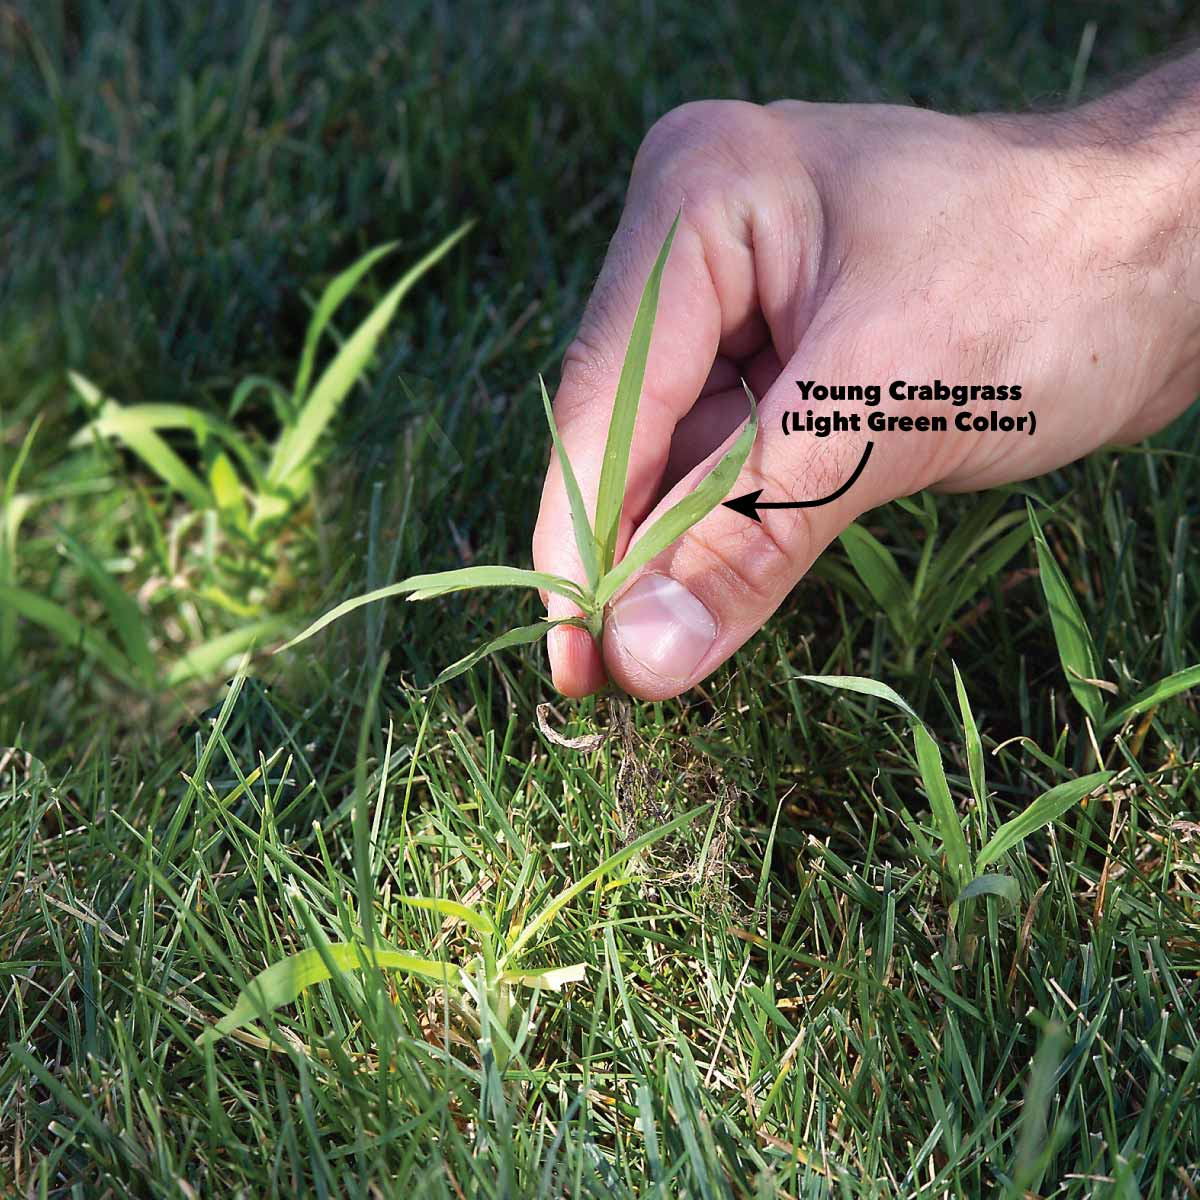crabgrass: (380, 285, 747, 695), (16, 282, 326, 682), (247, 788, 643, 1073), (818, 638, 1113, 905)
